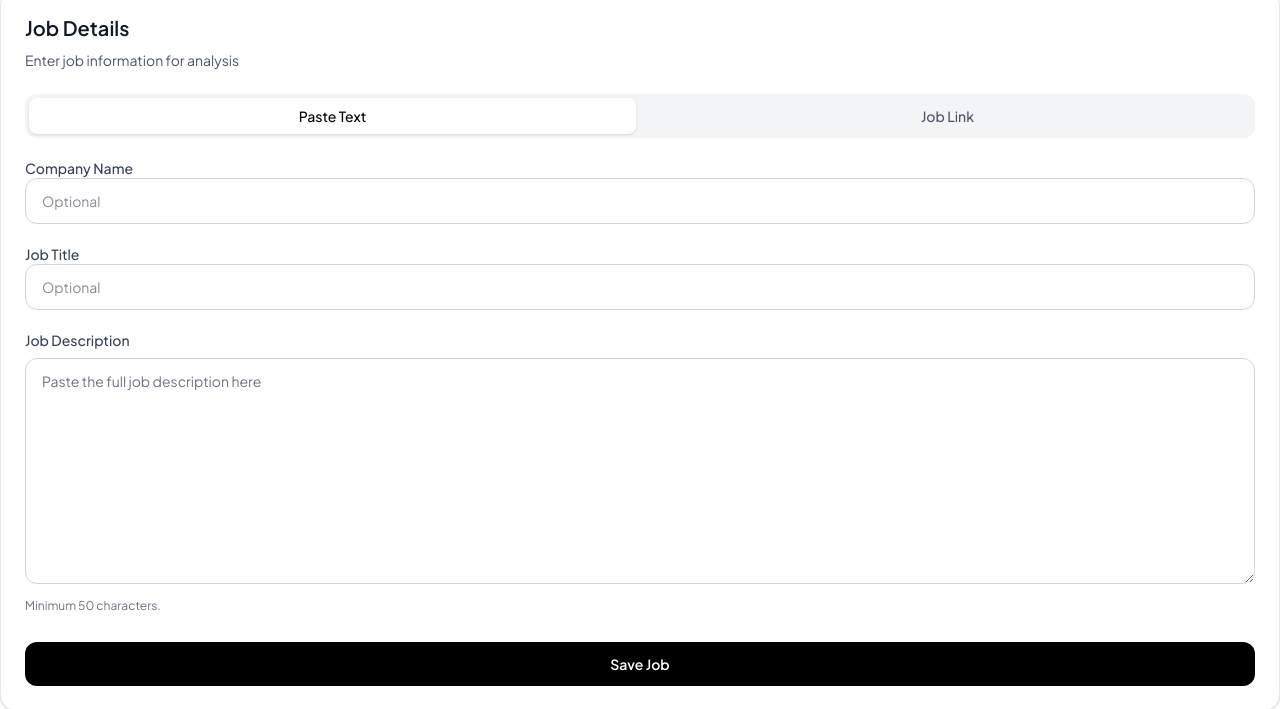
Test: JobForm › unlocks a saved job for editing when analysis validation fails
Type "Build accessible React interfaces for a software engineering role with TypeScript, testing, and product collaboration." into the text box labelled "Job Description" at {"x": 640, "y": 471}, box [25,358,1255,584]
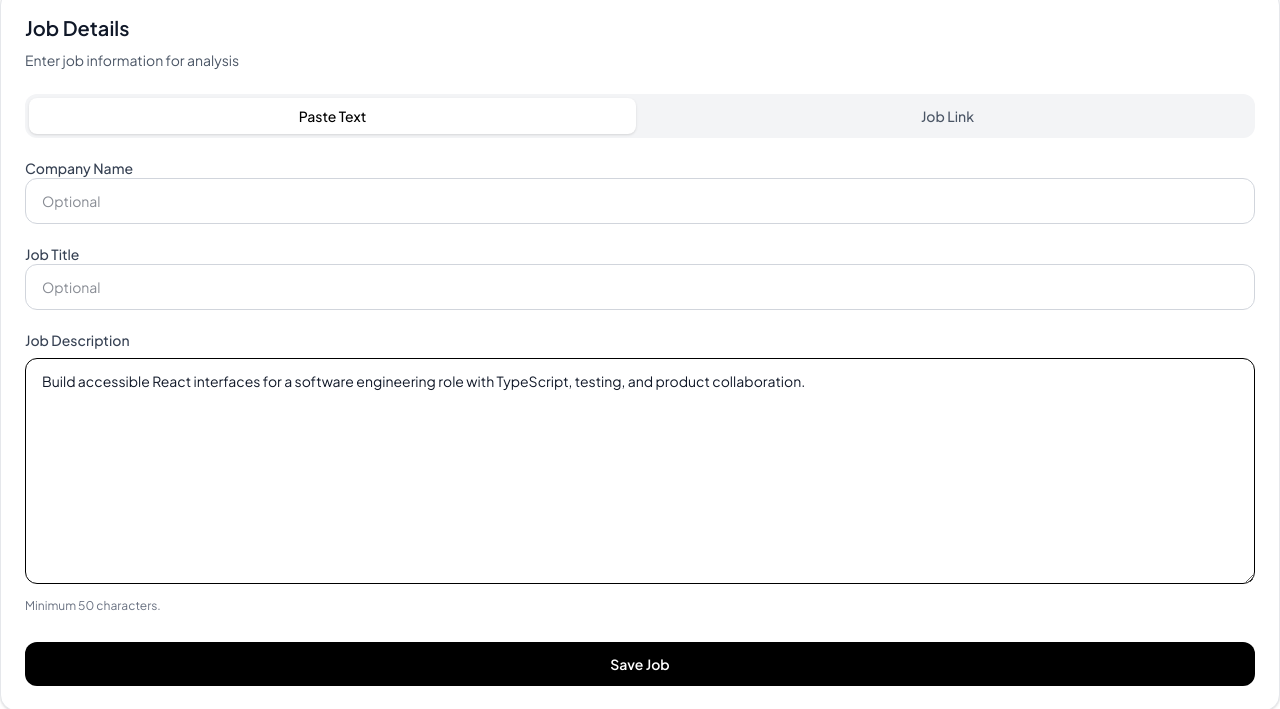
Click the button with aria-label "Submit job analysis" at {"x": 640, "y": 664}, box [25,642,1255,686]
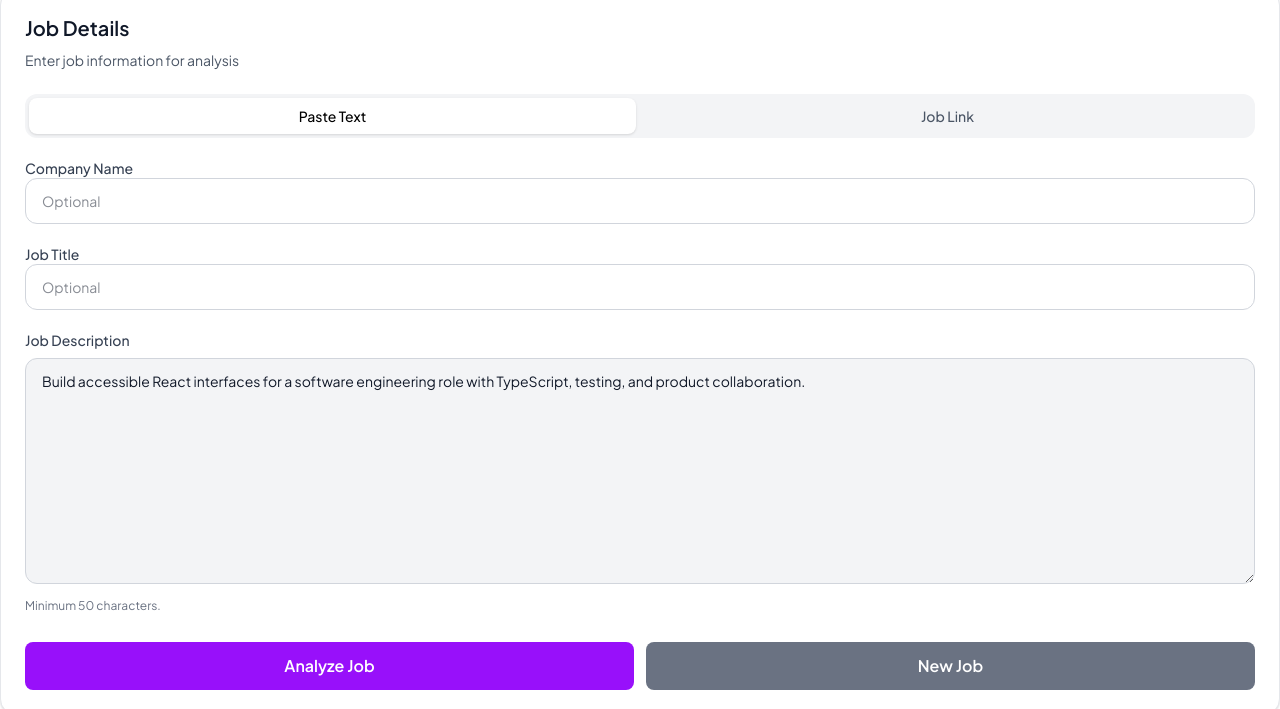
Click the button with aria-label "Analyze job description" at {"x": 330, "y": 666}, box [25,642,634,690]
(page scrolled)
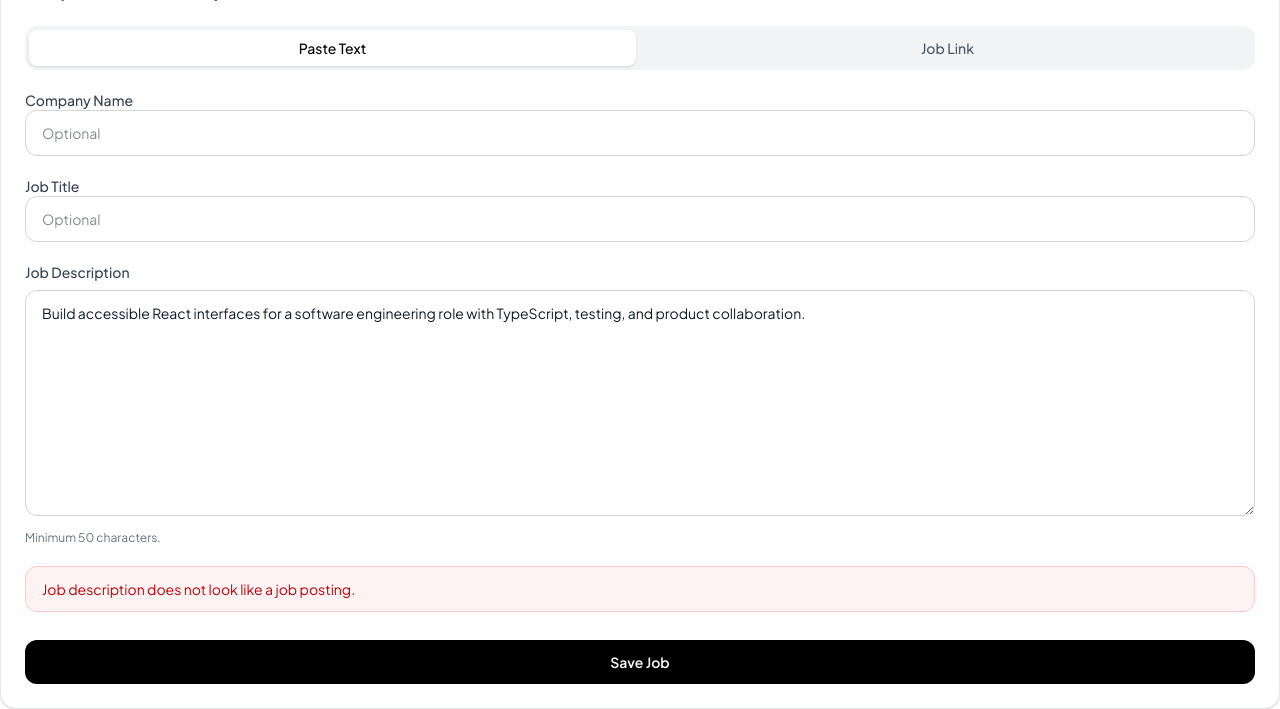
Expected: the message reads "Job description does not look like a job posting.", [42,580,355,598]
Expected: the text box labelled "Job Description" is enabled, [25,290,1255,516]
Expected: the button with aria-label "Submit job analysis" is shown, [25,640,1255,684]
